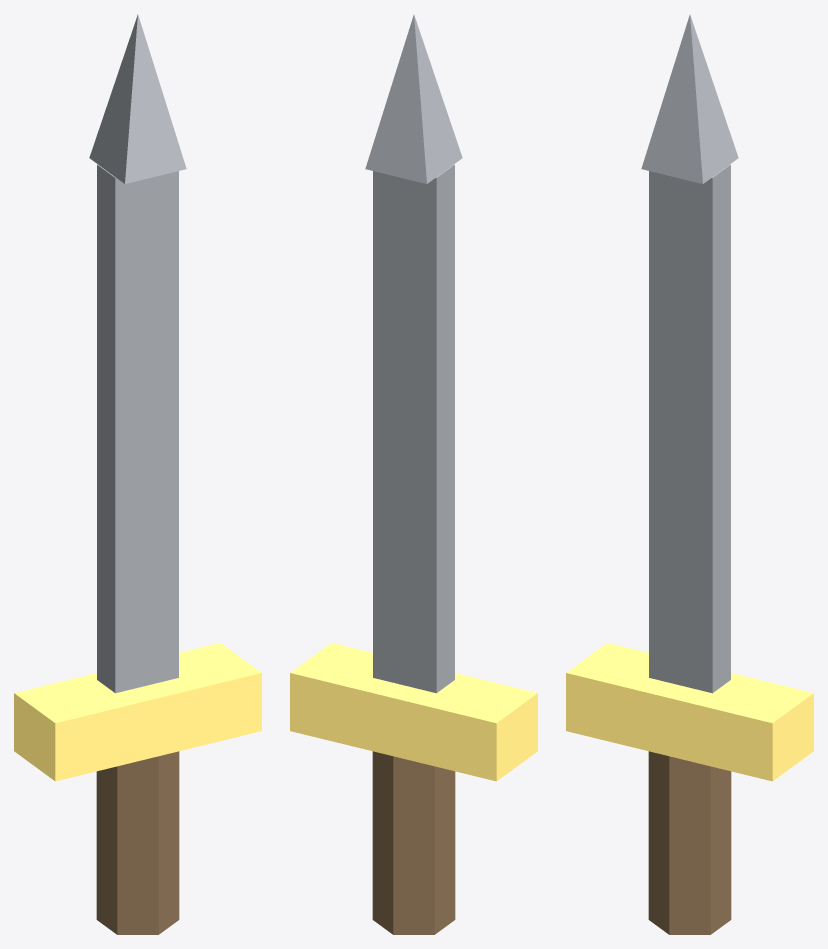
The model's file is dagger.glb.
The picture shows the model from 3 angles, left to right: view 1: azimuth 30°, elevation 25°; view 2: azimuth 150°, elevation 25°; view 3: azimuth 330°, elevation 25°; orthographic projection.
Parts seen in each view (by area): view 1: DaggerBlade, DaggerGuard, DaggerGrip, DaggerTip; view 2: DaggerBlade, DaggerGuard, DaggerGrip, DaggerTip; view 3: DaggerBlade, DaggerGuard, DaggerGrip, DaggerTip.
Boxes of the visible parts, bbox=[...] form: DaggerBlade: bbox=[97, 164, 178, 693]; DaggerGuard: bbox=[14, 643, 261, 781]; DaggerGrip: bbox=[96, 751, 179, 934]; DaggerTip: bbox=[89, 14, 186, 183]; DaggerBlade: bbox=[373, 164, 454, 693]; DaggerGuard: bbox=[290, 643, 537, 781]; DaggerGrip: bbox=[372, 751, 455, 934]; DaggerTip: bbox=[365, 14, 462, 183]; DaggerBlade: bbox=[649, 164, 730, 693]; DaggerGuard: bbox=[566, 643, 813, 781]; DaggerGrip: bbox=[648, 751, 731, 934]; DaggerTip: bbox=[641, 14, 738, 183].
Size of the model in its own units: 0.26 by 1.09 by 0.09.
